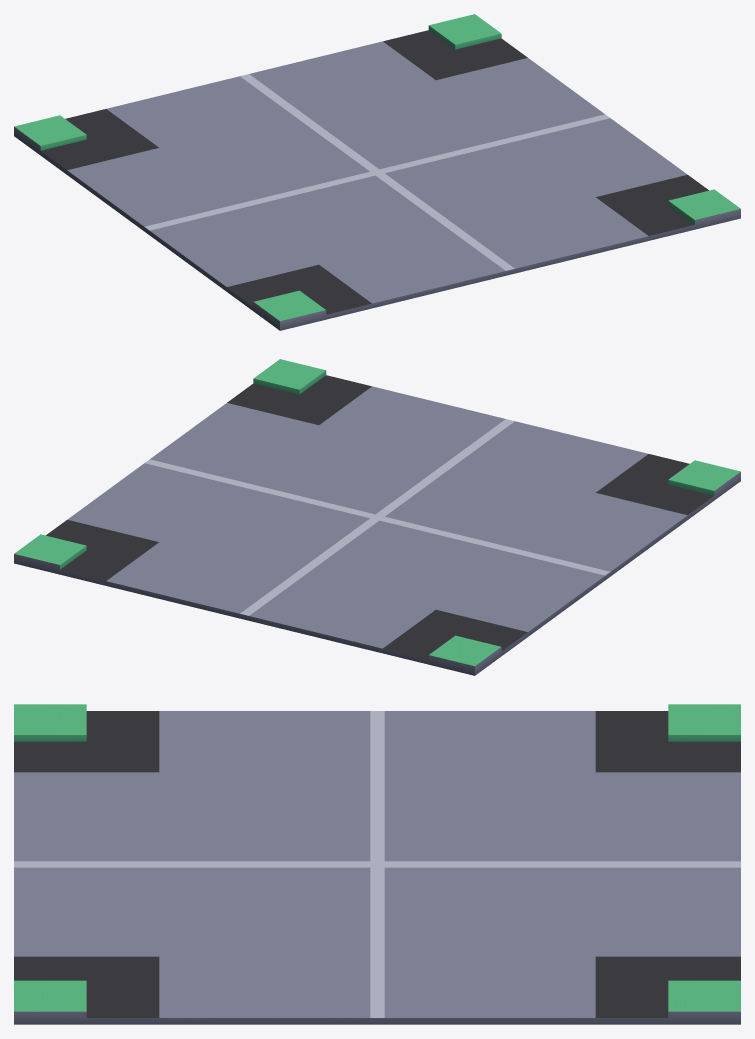
File: road_crossroad_line.glb
3 views of the same model, one above another, from view 1: azimuth 30°, elevation 25°; view 2: azimuth 150°, elevation 25°; view 3: azimuth 270°, elevation 25° (orthographic). The views are drawn at different scales.
Visible parts, largest first — view 1: road-crossroad-line; view 2: road-crossroad-line; view 3: road-crossroad-line.
Part boxes in pixels (x1=…): road-crossroad-line: x1=14, y1=14, x2=740, y2=330; road-crossroad-line: x1=14, y1=359, x2=740, y2=675; road-crossroad-line: x1=14, y1=704, x2=740, y2=1024.
Bounding box in the file's own units: 1 × 0.02 × 1.
Materials: 1 (1 with a texture image).
